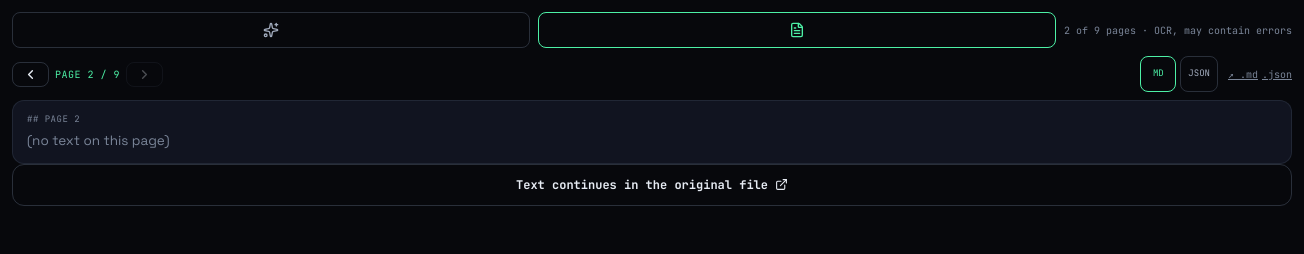
Test: FullText paginated view › Markdown is the default; JSON shows the current page as data
Click the button "JSON": {"x": 1199, "y": 74} [1180,56,1218,92]
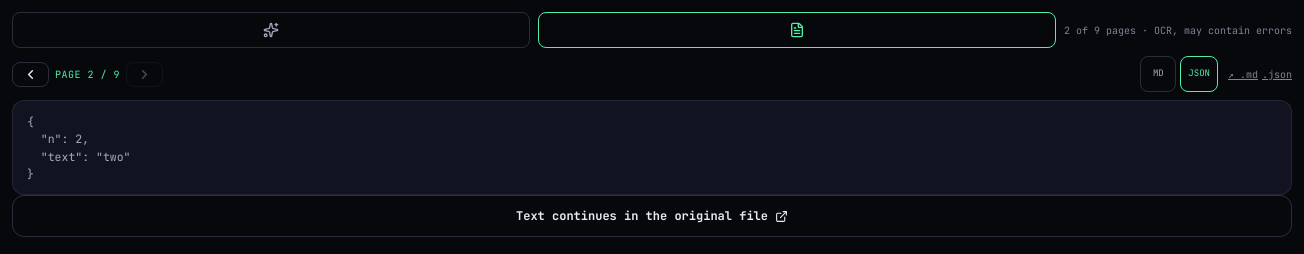
Result: the text "{ \"n\": 2, \"text\": \"two\" }" is shown at [27,114,130,181]
